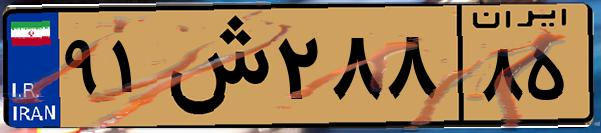1: (110, 28, 158, 98)
2: (270, 28, 330, 110)
5: (525, 38, 570, 115)
8: (385, 28, 445, 110), (330, 28, 385, 110), (475, 38, 525, 113)
9: (57, 26, 110, 100)
ش: (158, 12, 270, 120)
